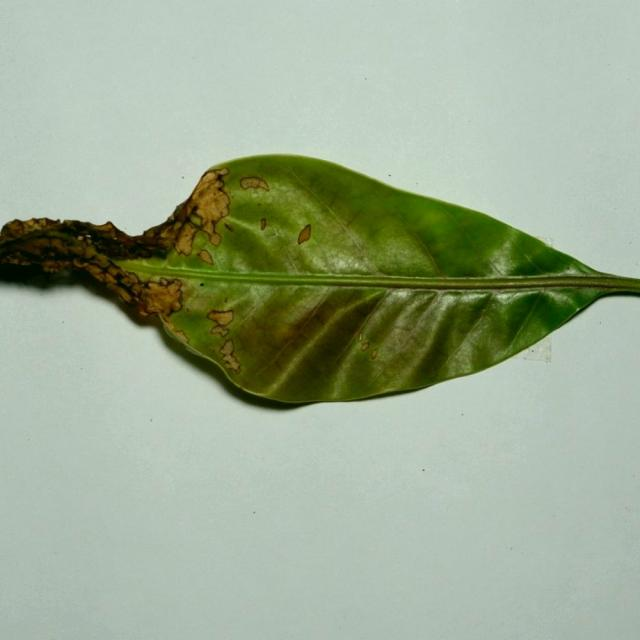Anthracnose: (217, 335, 242, 372), (25, 246, 59, 272), (12, 243, 57, 262), (141, 287, 171, 315), (144, 287, 173, 311), (238, 175, 269, 192), (206, 308, 234, 326), (294, 224, 314, 247), (87, 221, 117, 234), (174, 237, 193, 257), (296, 223, 312, 246), (18, 219, 43, 231), (201, 170, 222, 184), (197, 249, 214, 265), (172, 328, 189, 344), (209, 232, 222, 247), (117, 289, 132, 302), (171, 220, 184, 235), (72, 258, 88, 268), (216, 167, 230, 178), (190, 213, 202, 225), (81, 235, 94, 245), (359, 340, 370, 351), (260, 218, 267, 230), (370, 349, 378, 359), (357, 332, 365, 342), (226, 223, 234, 232), (224, 296, 228, 302), (186, 307, 190, 312)
Mango: (0, 156, 639, 412)
